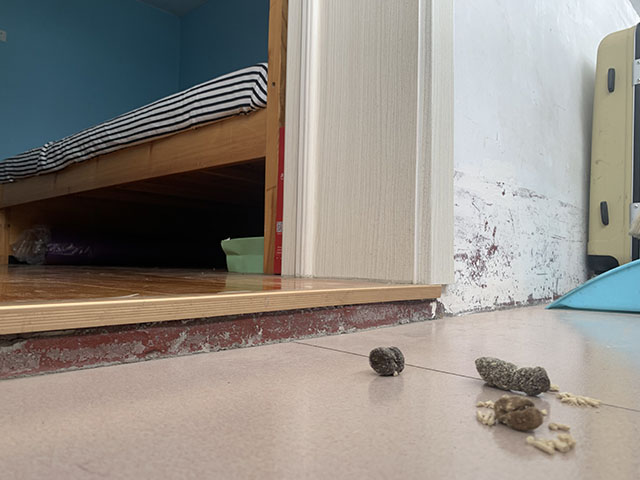bed: (1, 1, 290, 276)
feces: (474, 356, 551, 398), (495, 395, 544, 433), (367, 345, 406, 377)
